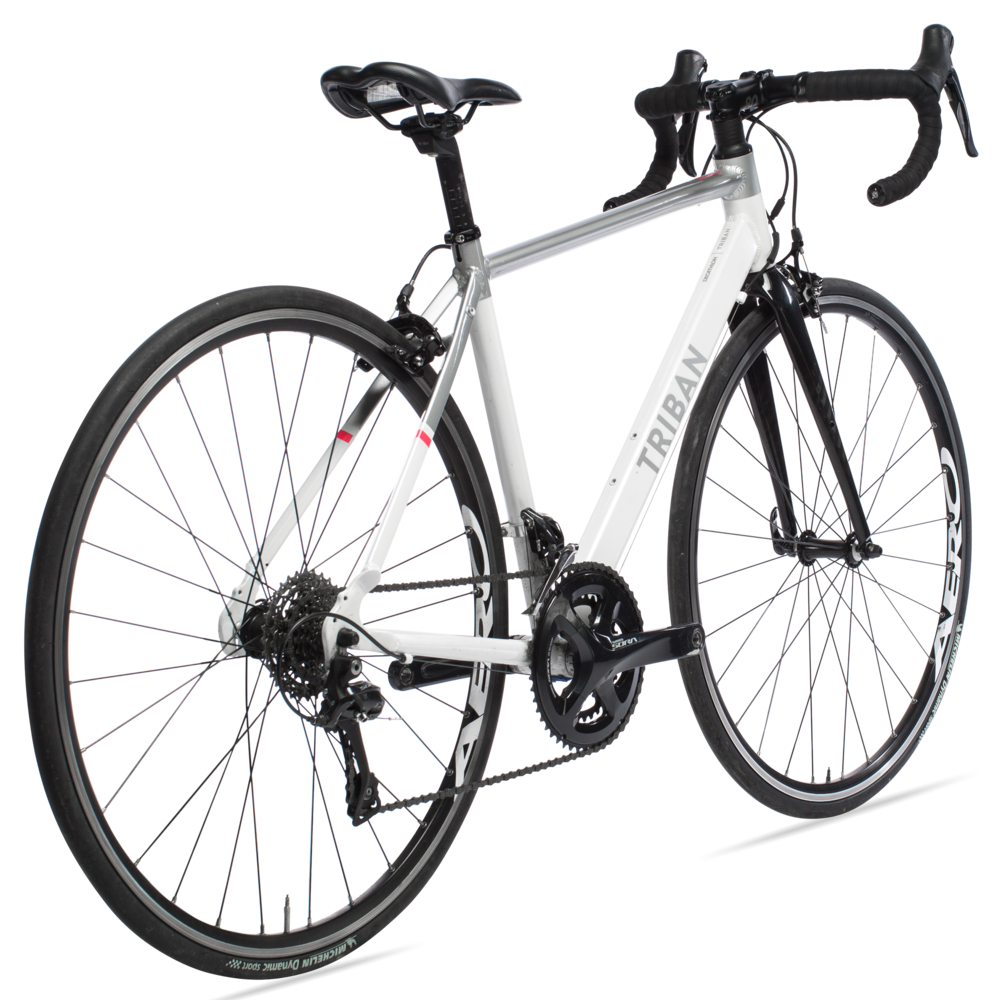RoadBike: (18, 16, 983, 983)
